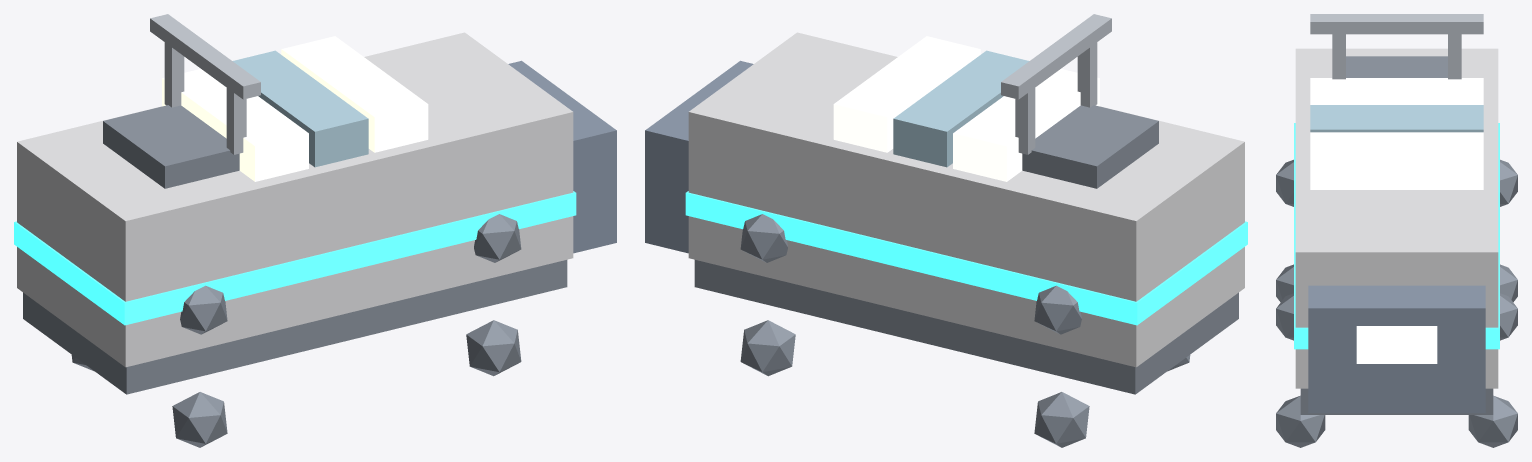
Rendered from loco.glb.
3 views of the same model, side by side, from view 1: azimuth 30°, elevation 25°; view 2: azimuth 150°, elevation 25°; view 3: azimuth 270°, elevation 25° (orthographic). The views are drawn at different scales.
Parts seen in each view (by area): view 1: MetroLoco; view 2: MetroLoco; view 3: MetroLoco.
Boxes of the visible parts, x1,y1,x2,y2 form: MetroLoco: (14,14,616,447); MetroLoco: (645,14,1247,447); MetroLoco: (1276,14,1517,447).
Size of the model in its own units: 2.83 by 1.85 by 1.26.
